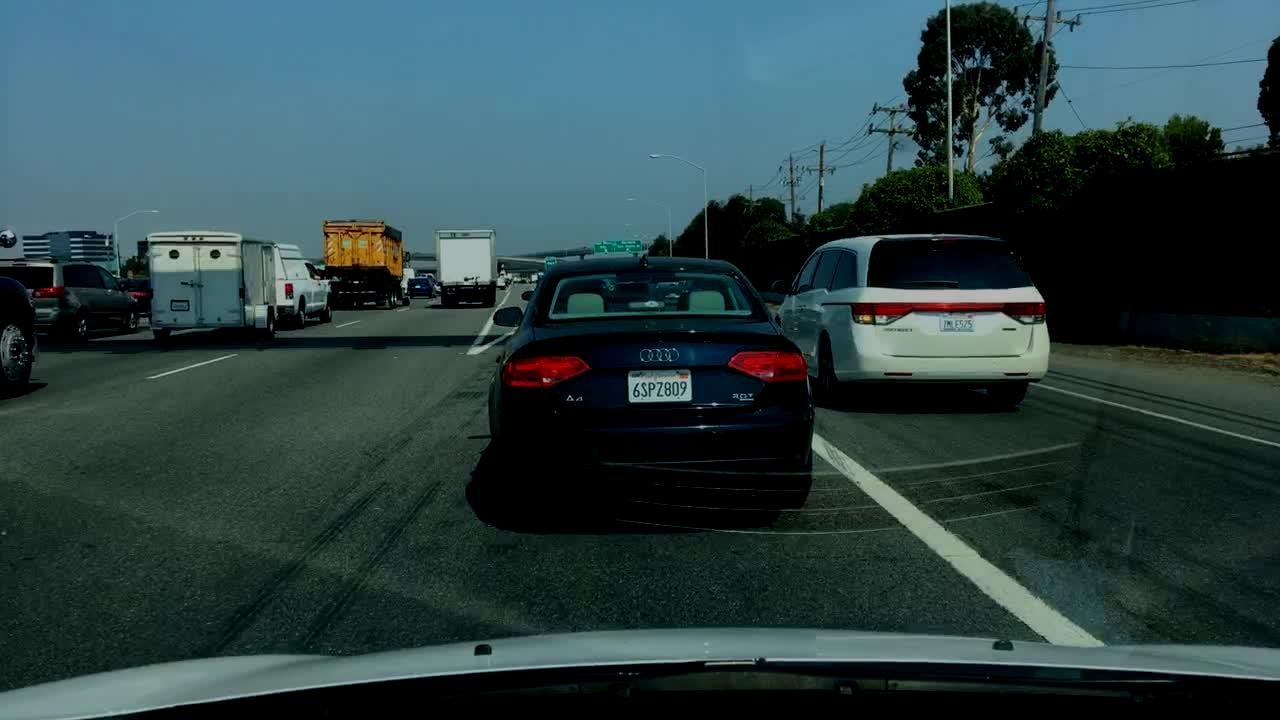Audi: (634, 344, 684, 368)
